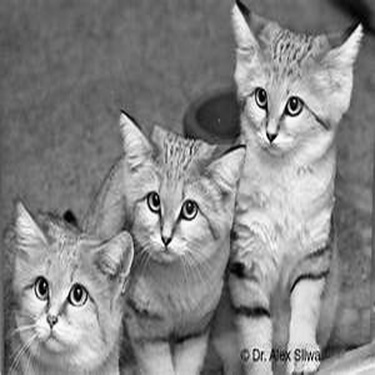cat: (220, 3, 369, 373), (94, 110, 248, 373), (5, 194, 135, 373)
